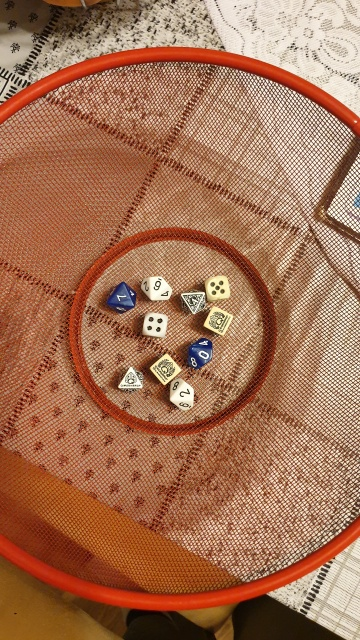d10-10: (183, 338, 216, 373)
d10-2: (163, 378, 197, 416)
d10-6: (138, 272, 173, 307)
d10-7: (103, 280, 138, 315)
d6-4: (141, 311, 169, 340)
d6-5: (204, 273, 231, 300)
d6p-6: (146, 352, 180, 386), (200, 305, 235, 338)
d8p-4: (181, 286, 205, 316)
d8p-8: (115, 365, 146, 393)
